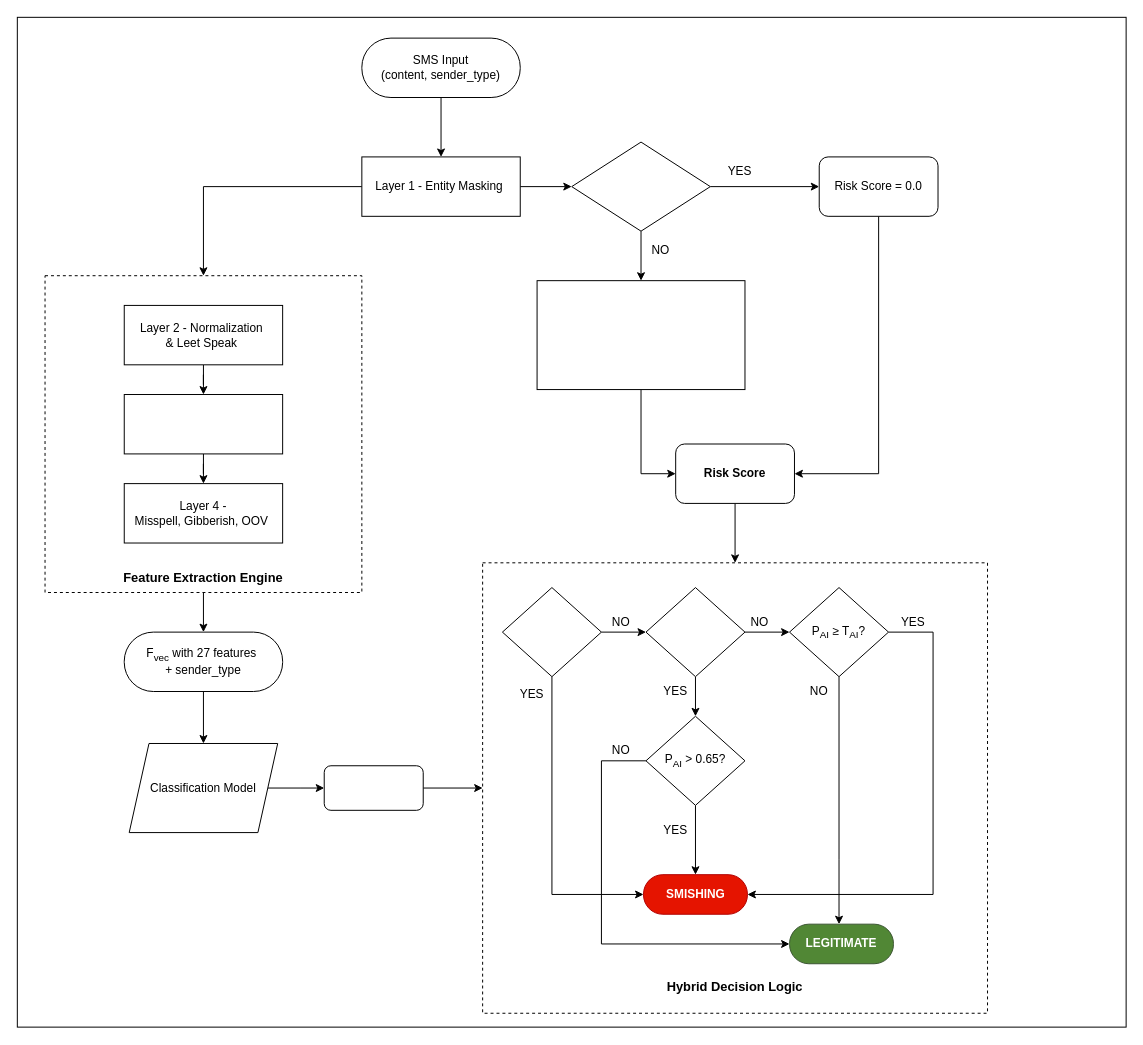
Image size: 1143x1045. Some labels were removed from this diagram. Each missing label, with the box of its shape:
DOMAIN VERIFICATION PHASE: (536, 280, 745, 390)
Is URL list empty?: (571, 141, 710, 231)
Layer 3 - Whitelist: (123, 394, 283, 454)
P AI: (323, 765, 423, 810)
Risk Score < 0?: (645, 587, 745, 677)
Risk Score ≥ 0.8?: (501, 587, 601, 677)
